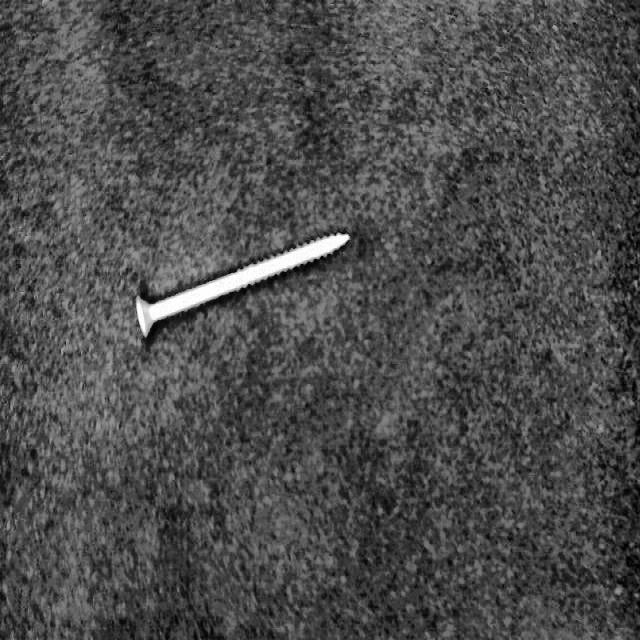Wood screw: (134, 230, 350, 338)
